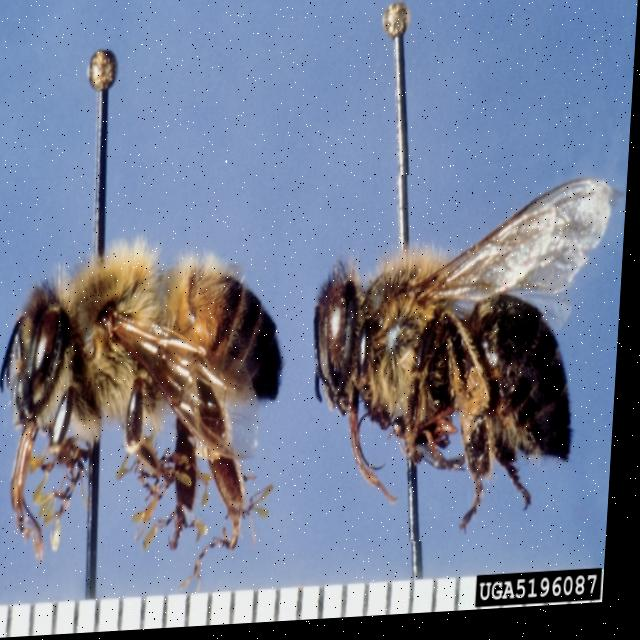Apis-mellifera-scutellata: (307, 170, 626, 552), (0, 220, 299, 589)
